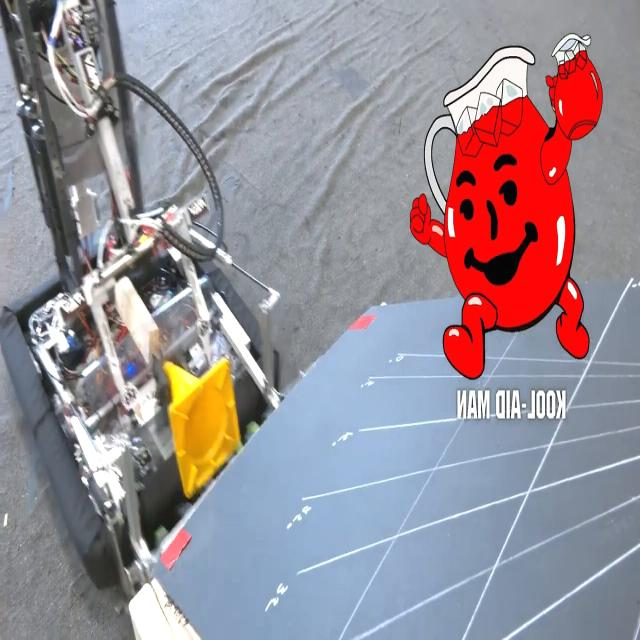frc_cone: (163, 332, 239, 498)
